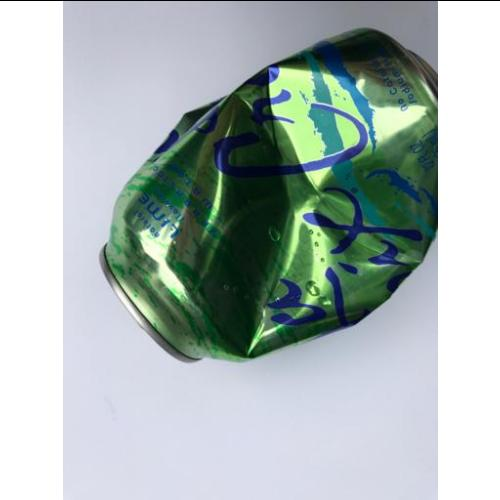metal: (101, 30, 440, 363)
